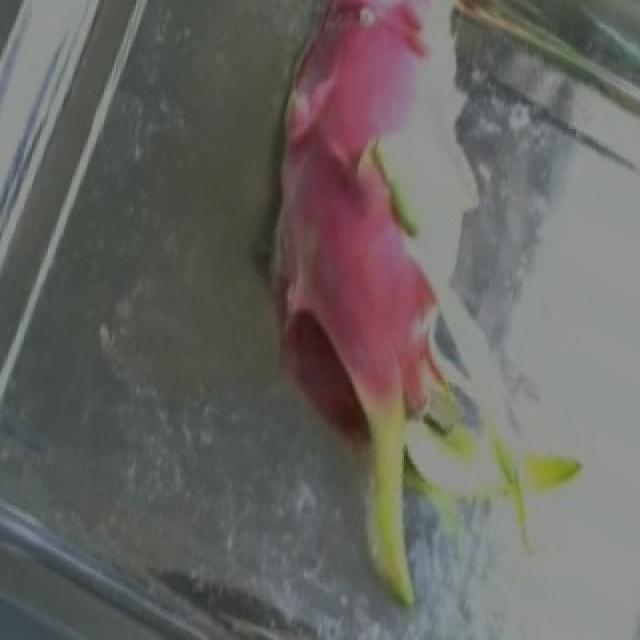fruit: (200, 139, 634, 603)
